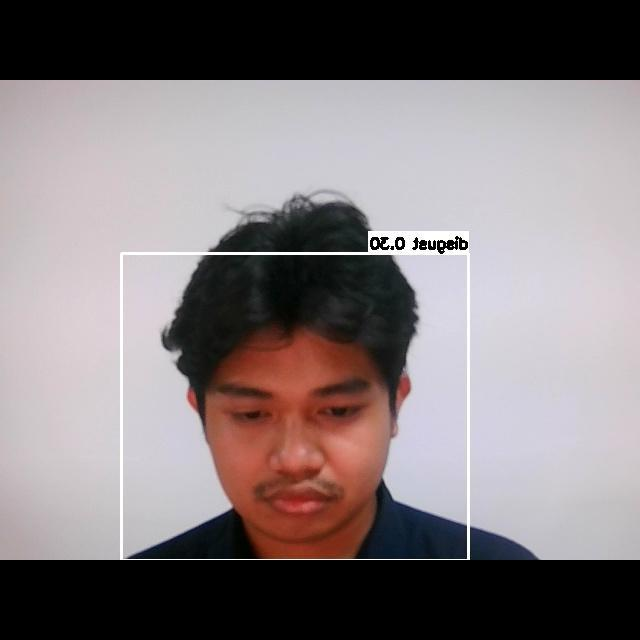Natural: (192, 359, 395, 521)
